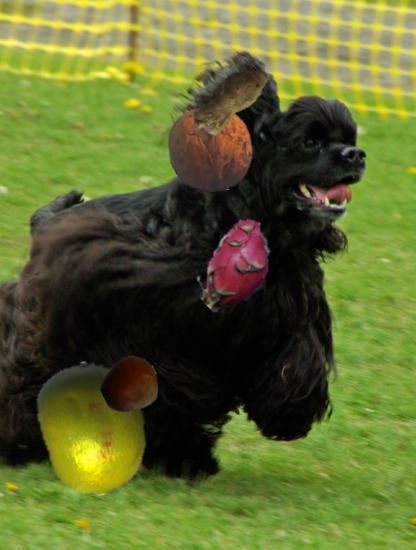Ginger: (184, 54, 276, 146)
Nut: (101, 356, 160, 415)
Pitahaya: (189, 220, 284, 315)
Pomelo: (24, 361, 160, 497)
Walnut: (167, 105, 254, 192)
